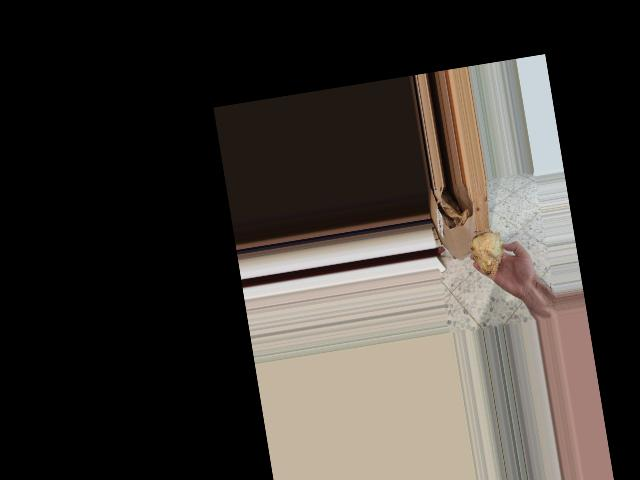onion: (465, 225, 513, 282)
